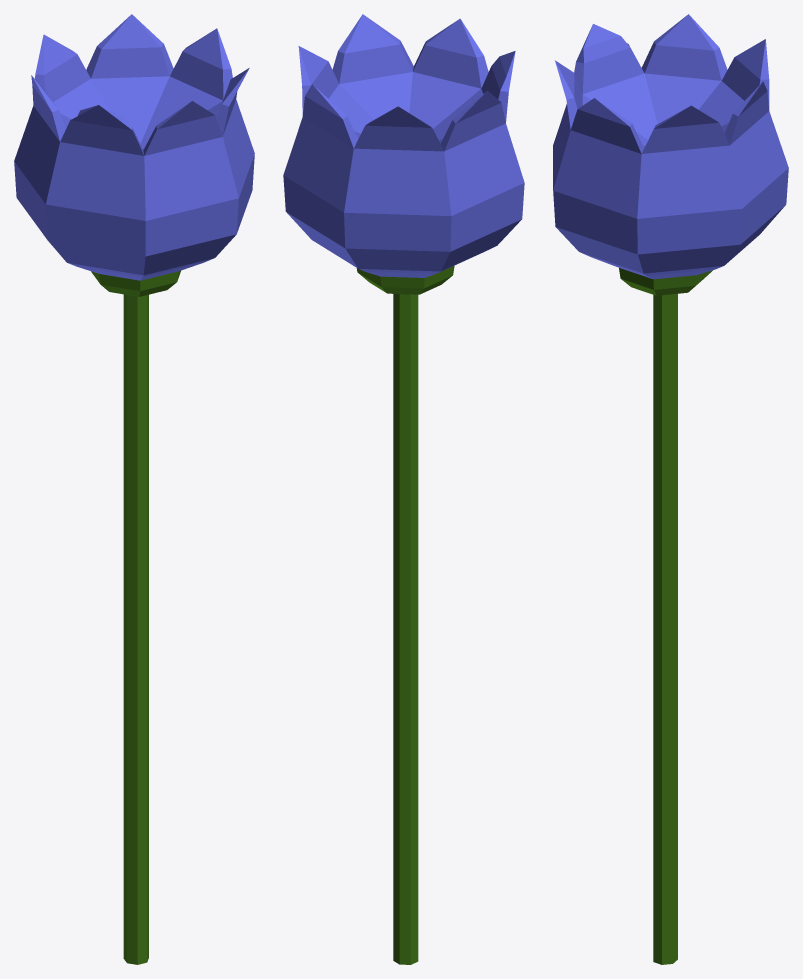
Rendered from Bell flower.fbx.
The picture shows the model from 3 angles, left to right: view 1: azimuth 30°, elevation 25°; view 2: azimuth 150°, elevation 25°; view 3: azimuth 270°, elevation 25°; orthographic projection.
Visible parts, largest first — view 1: Дзвіночок.002, Дзвіночок.001; view 2: Дзвіночок.002, Дзвіночок.001; view 3: Дзвіночок.002, Дзвіночок.001.
Part boxes in pixels (<box>): Дзвіночок.002: <box>14,14,254,280</box>; Дзвіночок.001: <box>91,270,180,964</box>; Дзвіночок.002: <box>283,14,524,277</box>; Дзвіночок.001: <box>356,265,454,964</box>; Дзвіночок.002: <box>553,14,788,279</box>; Дзвіночок.001: <box>619,268,712,964</box>.
Bounding box in the file's own units: 9.64 × 39.61 × 9.4.
